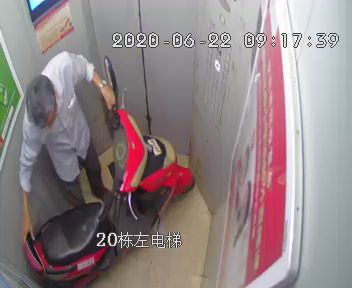Electric-bicycle: (19, 57, 195, 288)
